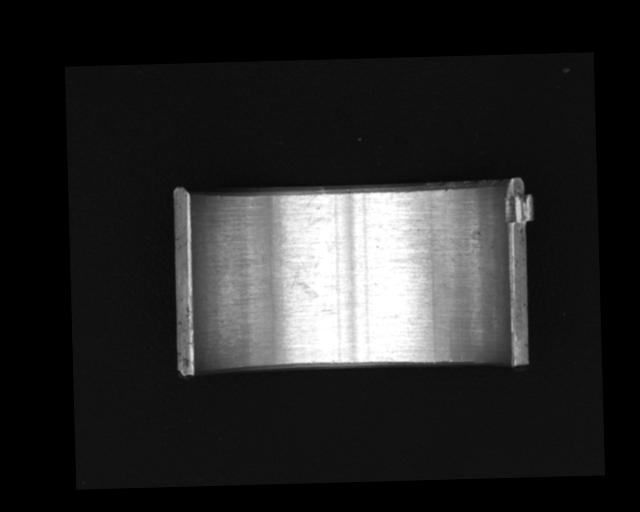blot: (281, 255, 322, 301)
